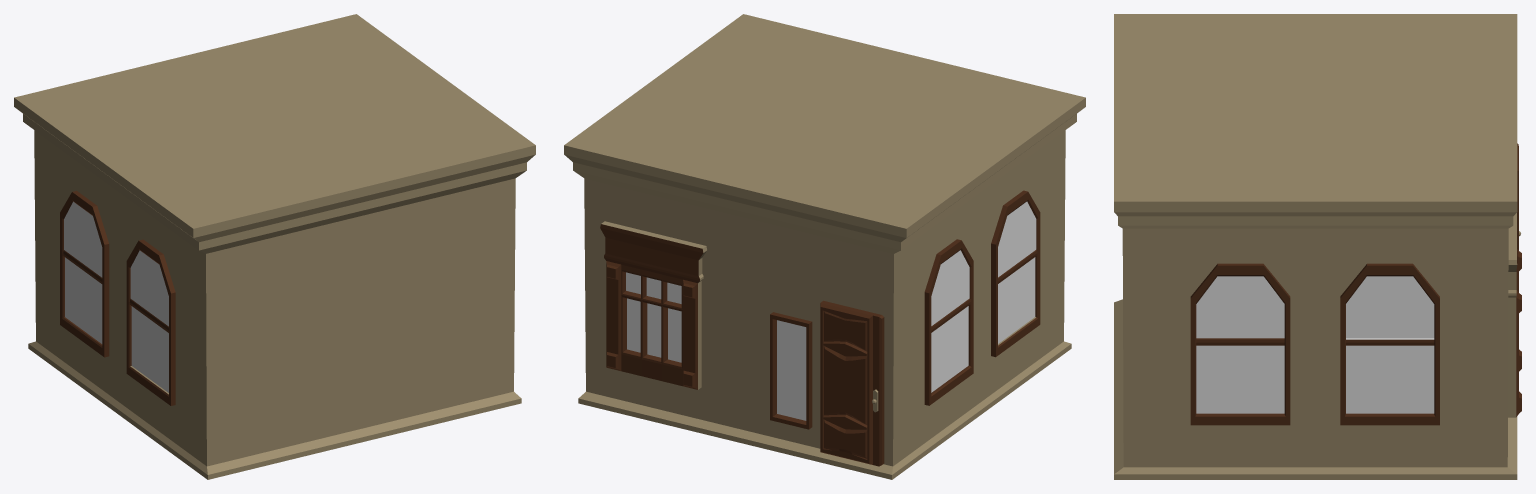
Rendered from SmallbuildingB_model.fbx.
3 renders of one model, left to right at view 1: azimuth 30°, elevation 25°; view 2: azimuth 150°, elevation 25°; view 3: azimuth 270°, elevation 25°, orthographic. The views are drawn at different scales.
Parts seen in each view (by area): view 1: SmallbuildingB_model; view 2: SmallbuildingB_model; view 3: SmallbuildingB_model.
Boxes of the visible parts, bbox=[...] form: SmallbuildingB_model: bbox=[14, 14, 535, 479]; SmallbuildingB_model: bbox=[564, 14, 1085, 479]; SmallbuildingB_model: bbox=[1114, 14, 1521, 479].
Size of the model in its own units: 568 by 521 by 403.
